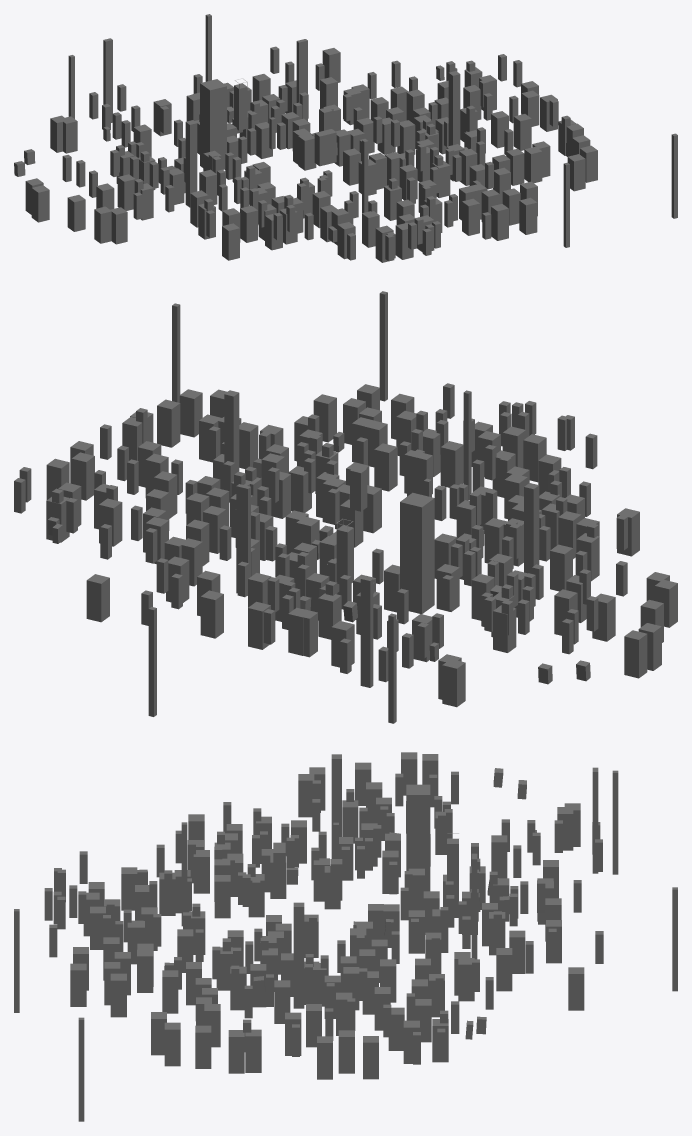
File: back.obj
3 views of the same model, one above another, from view 1: azimuth 30°, elevation 25°; view 2: azimuth 150°, elevation 25°; view 3: azimuth 270°, elevation 25° (orthographic). The views are drawn at different scales.
Parts seen in each view (by area): view 1: 立方体.017_立方体.530; view 2: 立方体.017_立方体.530; view 3: 立方体.017_立方体.530.
Boxes of the visible parts, x1,y1,x2,y2 form: 立方体.017_立方体.530: [14, 14, 677, 262]; 立方体.017_立方体.530: [14, 291, 677, 723]; 立方体.017_立方体.530: [14, 752, 677, 1121].
Bounding box in the file's own units: 178 × 38.39 × 165.
